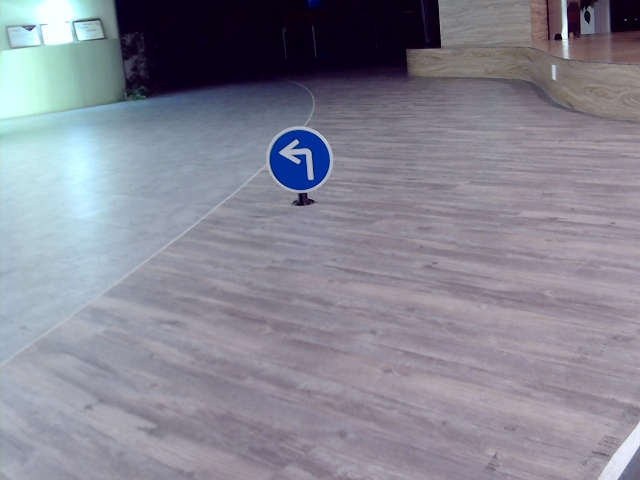turn_left: (276, 136, 318, 182)
